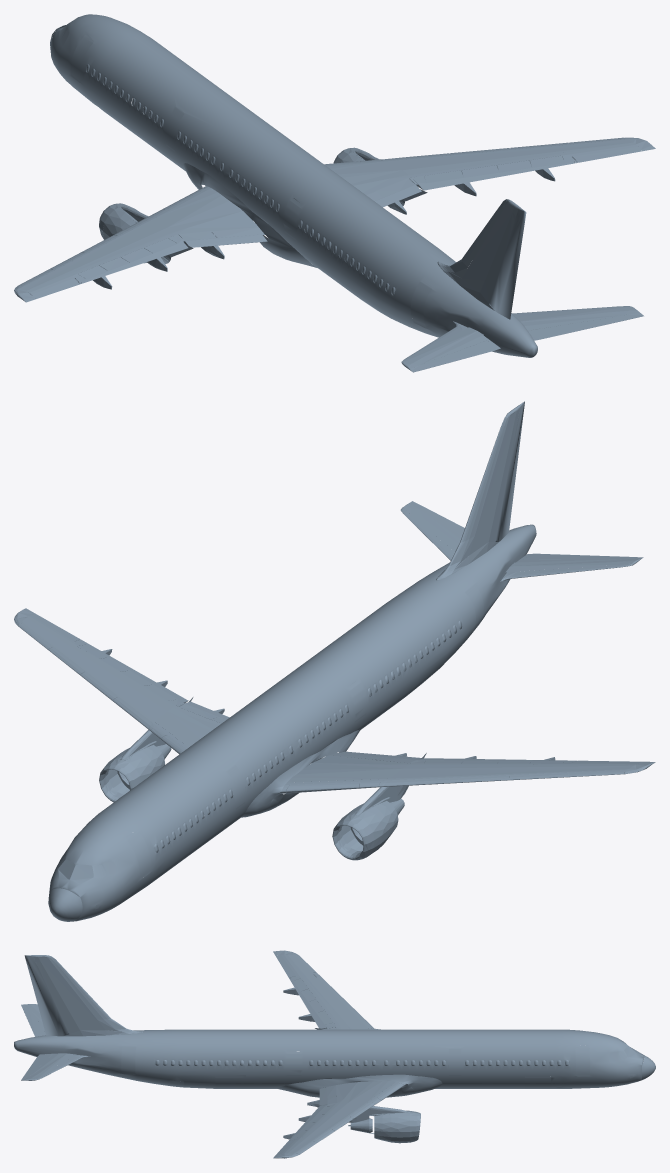
The picture shows the model from 3 angles, top to bottom: view 1: azimuth 30°, elevation 25°; view 2: azimuth 150°, elevation 25°; view 3: azimuth 270°, elevation 25°; orthographic projection. The views are drawn at different scales.
Bounding box in the file's own units: 33.91 × 11.39 × 44.52.
